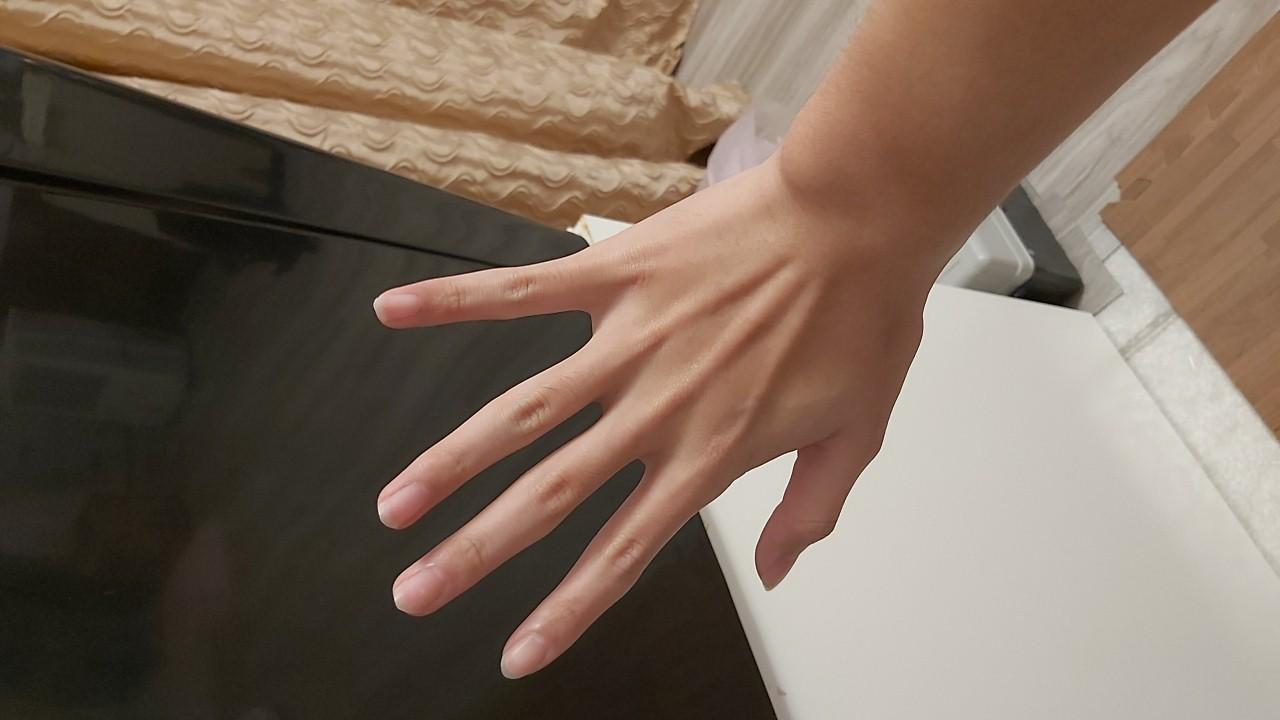hand: (68, 208, 980, 503)
